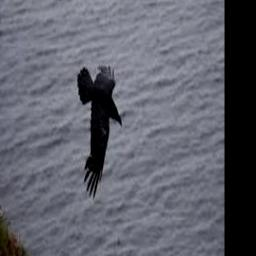Crow: (77, 62, 123, 199)
